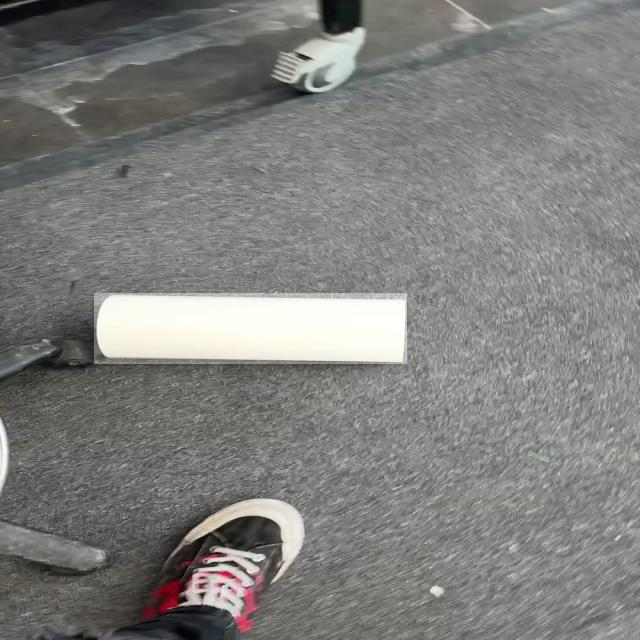Coral: (94, 293, 407, 364)
